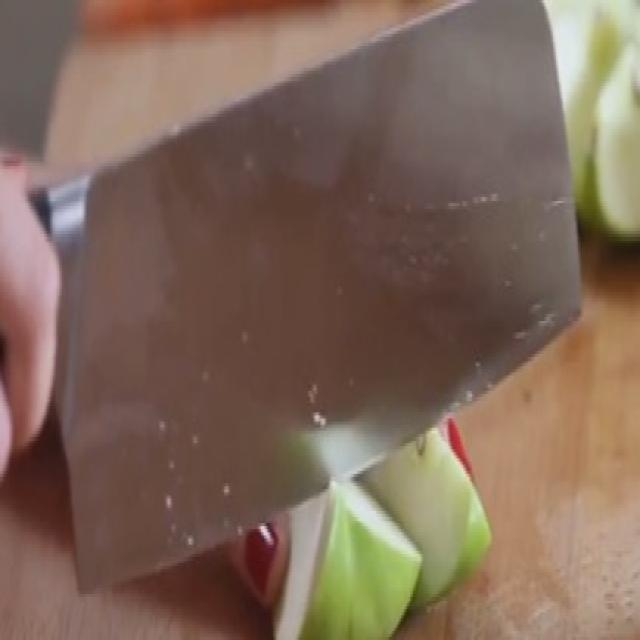knives: (45, 11, 609, 576)
